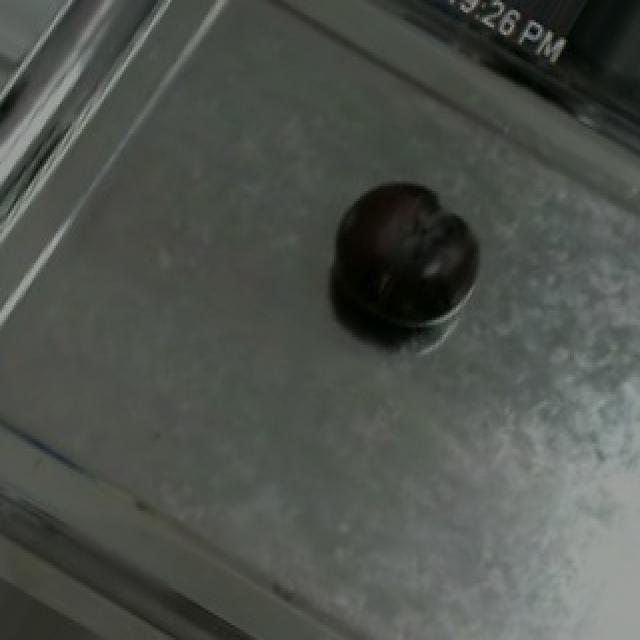Fruit: (314, 162, 490, 348)
